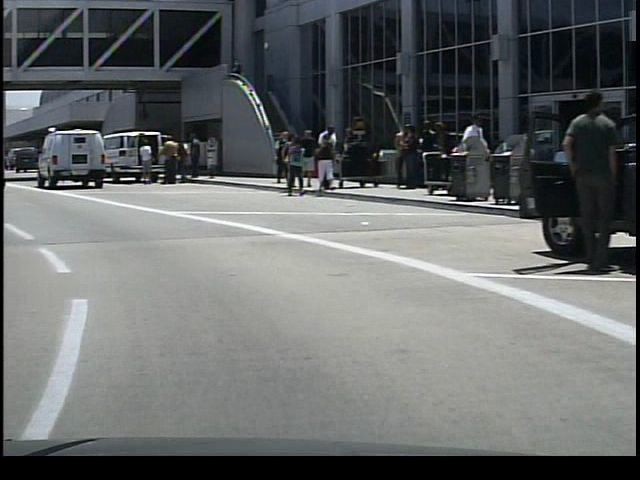person: (549, 86, 616, 274), (448, 108, 485, 204), (312, 123, 339, 190), (309, 138, 332, 194), (156, 134, 176, 186), (178, 132, 199, 180), (268, 126, 284, 188), (134, 135, 152, 186)
